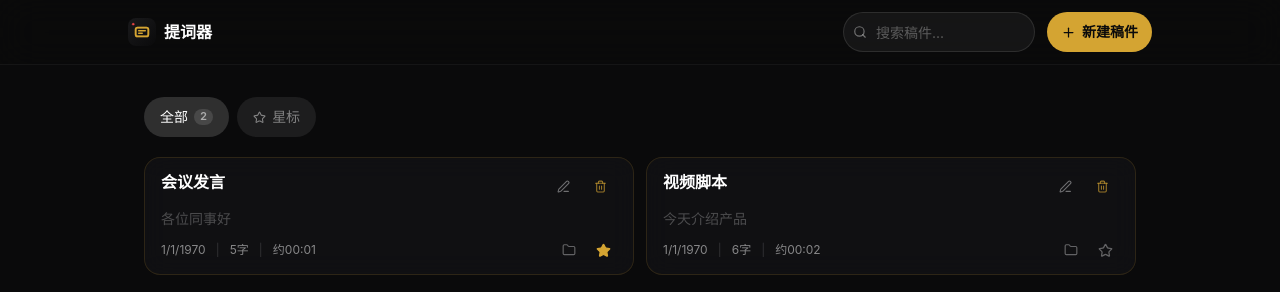
it: ScriptList › 星标过滤只显示星标稿件
The width and height of the screenshot is (1280, 292).
Click the button "星标" at (277, 117), box [237,97,316,137]
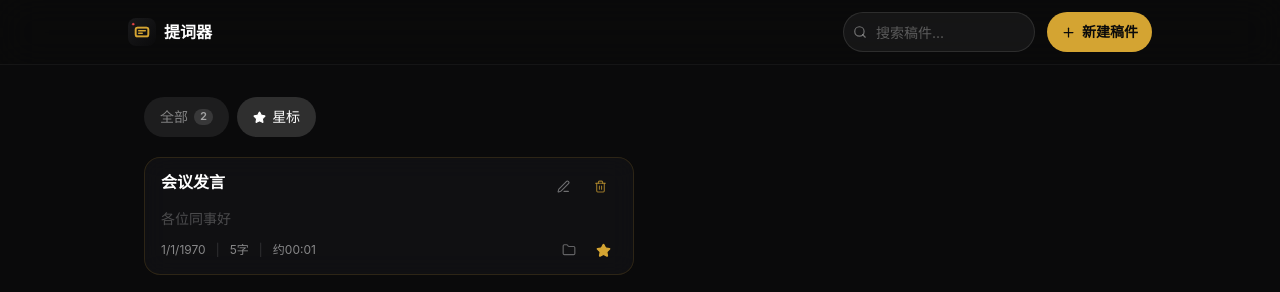
expect the heading "会议发言" is shown: met, box [161,170,225,194]
expect the heading "视频脚本" is gone: met
